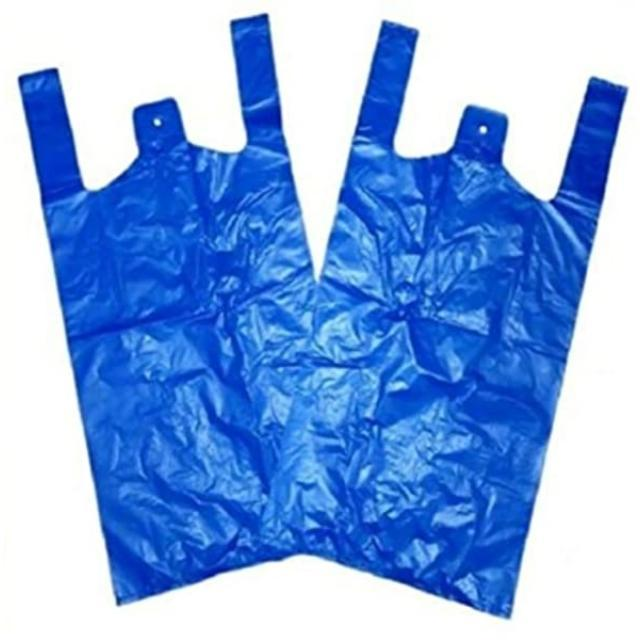plastic: (19, 16, 625, 616)
